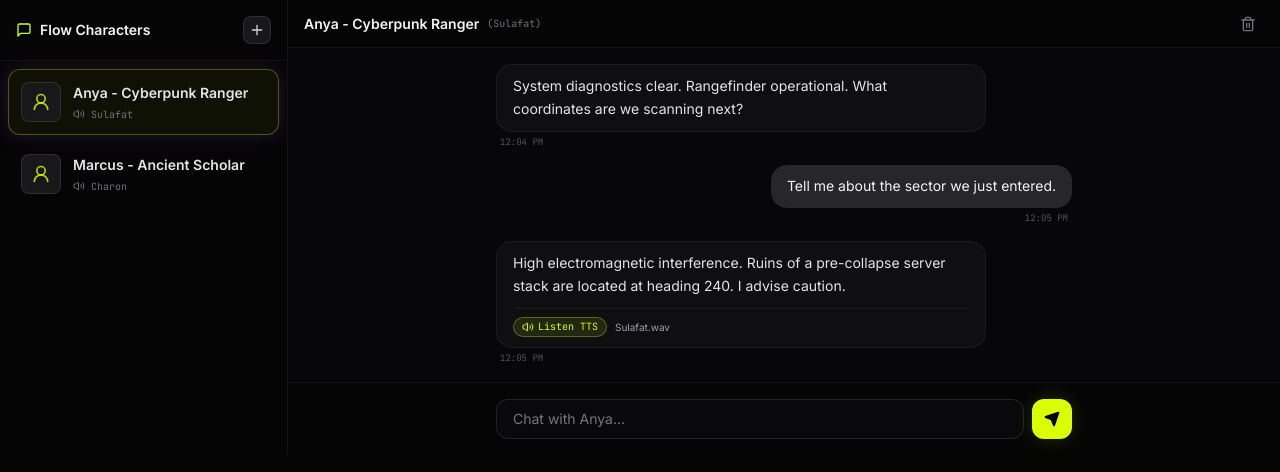
Test: ChatPanel › should allow selecting different characters and viewing respective conversation logs
Expected: the text "Anya - Cyberpunk Ranger" below "Flow Characters" is shown, [73,84,248,100]
Expected: the text "System diagnostics clear. Rangefinder operational. What coordinates are we scanning next?" is shown, [513,77,887,117]
What coordinates should you click on to do the following:
click the button "Marcus - Ancient Scholar Charon"
I would click on:
 (144, 174)
Its box is [8,141,279,207].
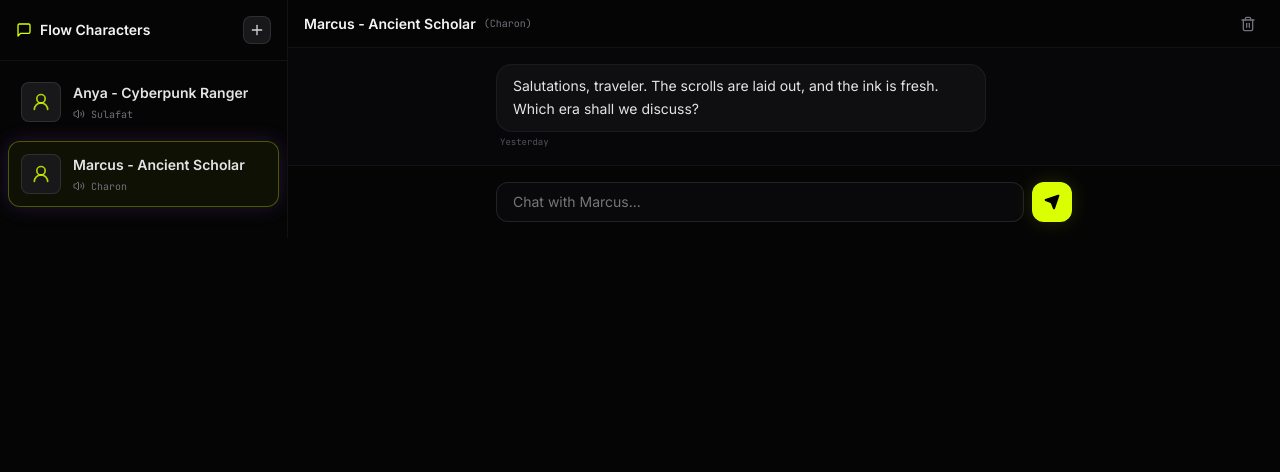
Result: the text "Salutations, traveler. The scrolls are laid out, and the ink is fresh. Which era shall we discuss?" is shown at [513,77,939,117]
